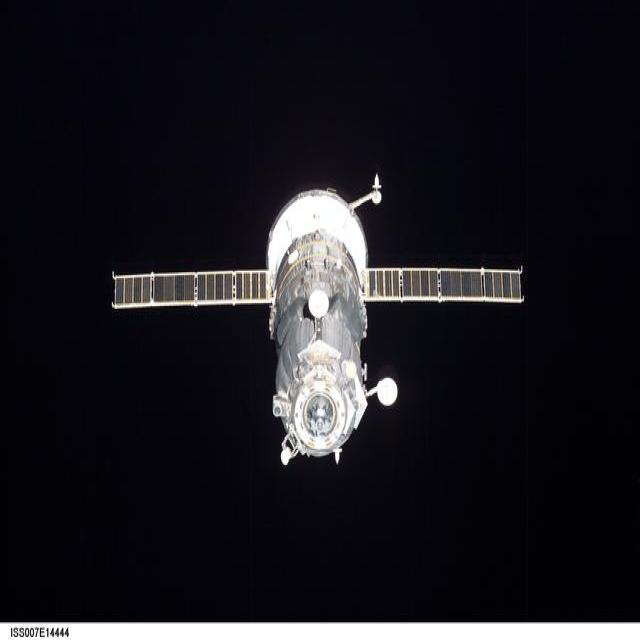satellite: (95, 170, 520, 490)
